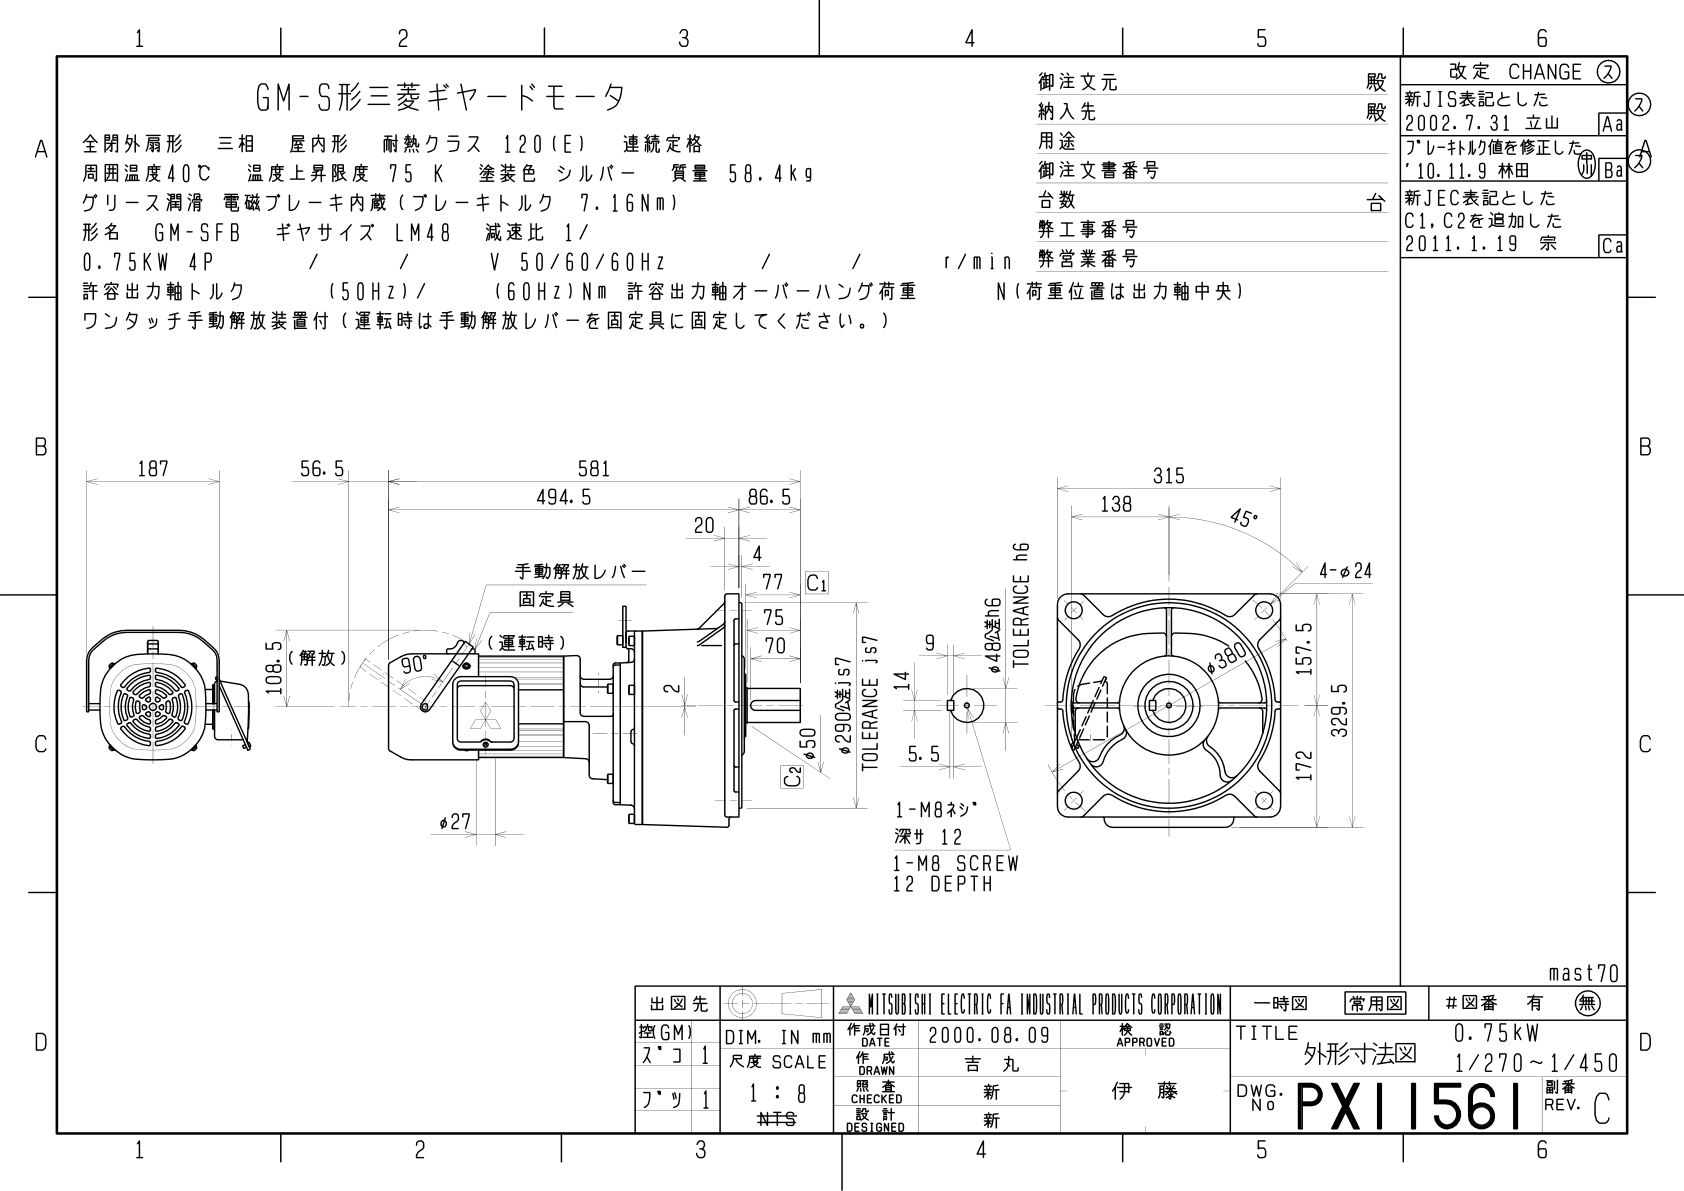GM_S_手動ブレーキ＿三相_フランジ: (71, 421, 1392, 920)
